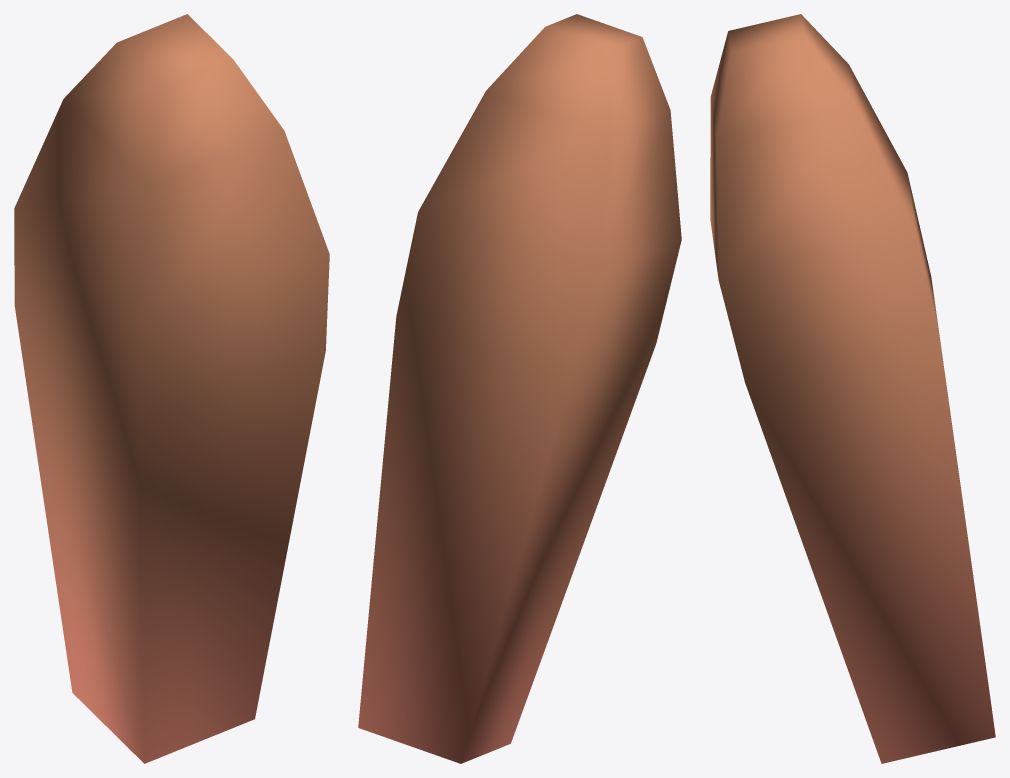
File: mdl_env_1_forest_grass_b02_v01.fbx
3 renders of one model, left to right at view 1: azimuth 30°, elevation 25°; view 2: azimuth 150°, elevation 25°; view 3: azimuth 270°, elevation 25°, orthographic. The views are drawn at different scales.
Visible parts, largest first — view 1: mdl_env_1_forest_grass_b02_v01; view 2: mdl_env_1_forest_grass_b02_v01; view 3: mdl_env_1_forest_grass_b02_v01.
Boxes of the visible parts, box(x1,y1,x2,y2) form: mdl_env_1_forest_grass_b02_v01: box(14, 14, 329, 763); mdl_env_1_forest_grass_b02_v01: box(358, 14, 681, 763); mdl_env_1_forest_grass_b02_v01: box(710, 14, 995, 763).
Bounding box in the file's own units: 0.2193 × 0.7221 × 0.2698.
